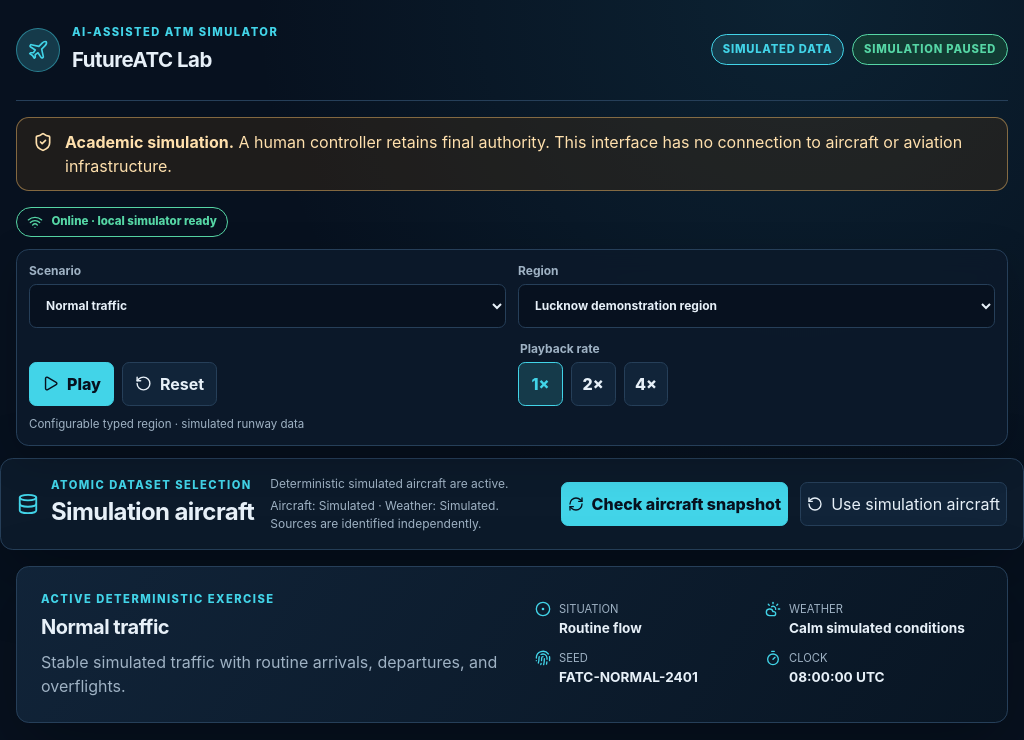
Test: weather provider integration › shows deterministic provenance and the scenario-seeded severe weather state
Select "Severe weather" in the dropdown labelled "Scenario" at (268,306), box x1=29 y1=284 x2=506 y2=328
(page scrolled)
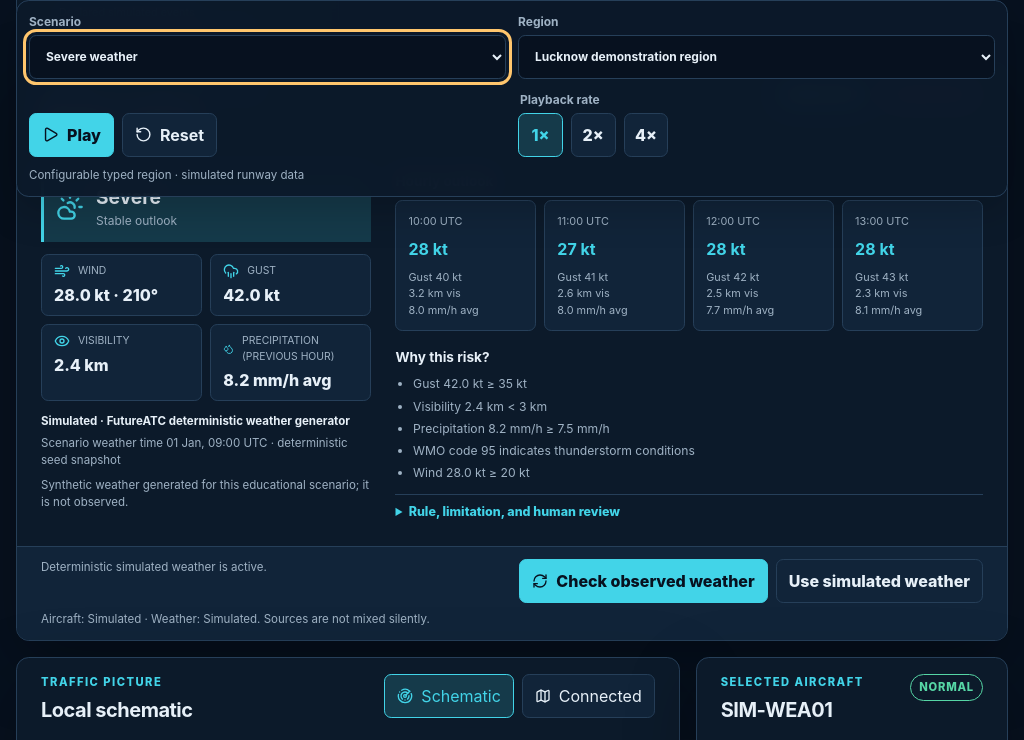
Now the text "Severe risk" is shown, box x1=878 y1=80 x2=983 y2=110
Now the list item "Gust 42.0 kt ≥ 35 kt" is shown, box x1=413 y1=376 x2=527 y2=391
